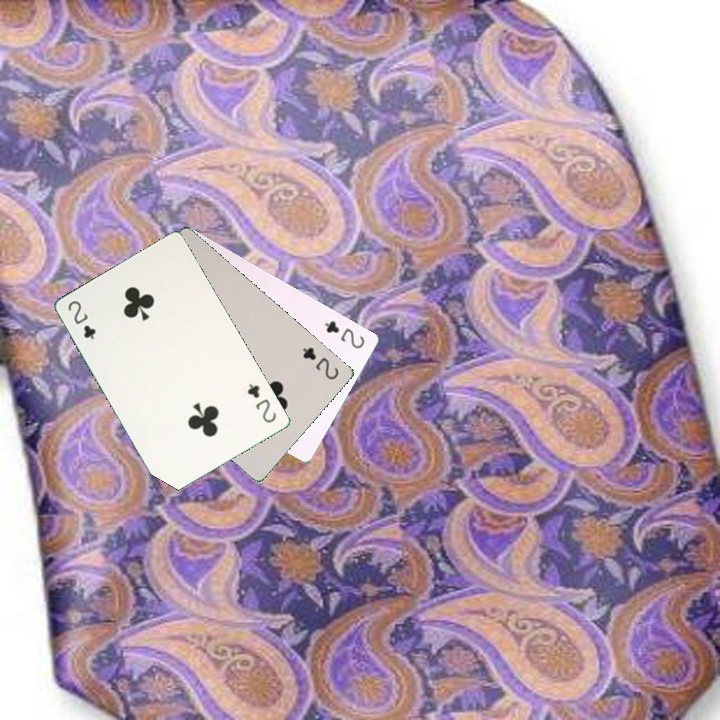2c: (298, 343, 342, 383), (243, 379, 279, 426), (321, 316, 367, 351), (64, 296, 99, 342)
